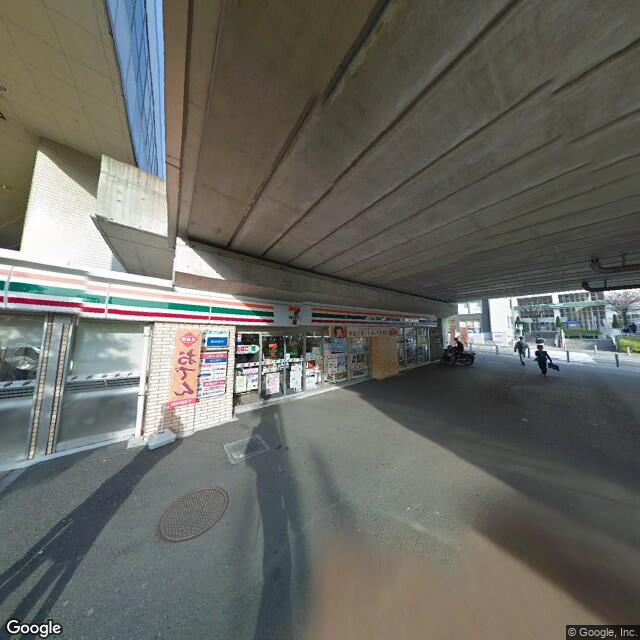7-eleven: (1, 264, 445, 336)
